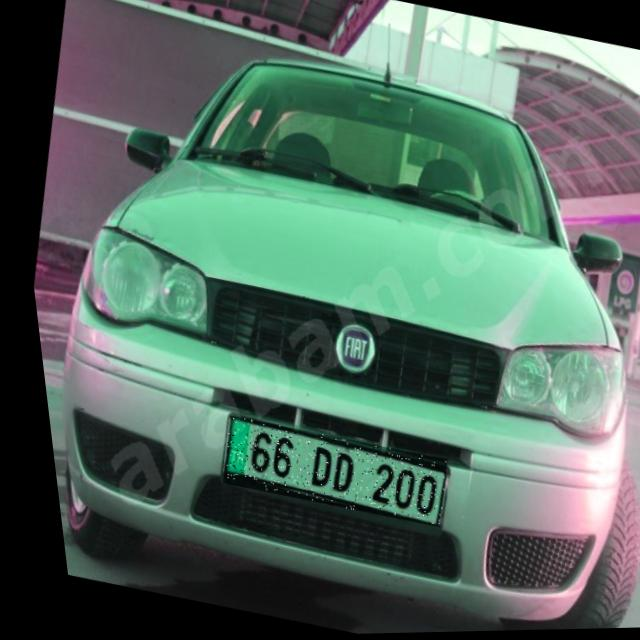license_plate: (204, 412, 441, 532)
